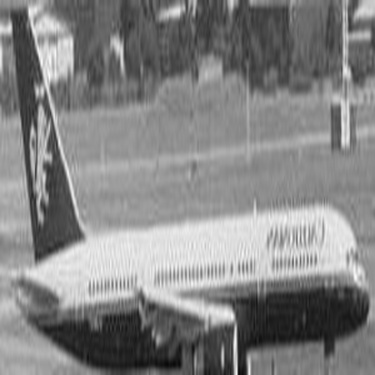airplane: (1, 6, 368, 360)
